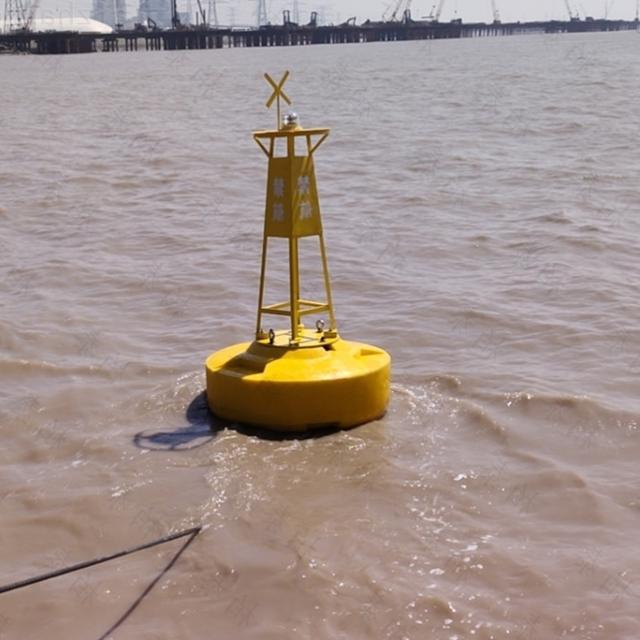buoy: (193, 55, 395, 425)
